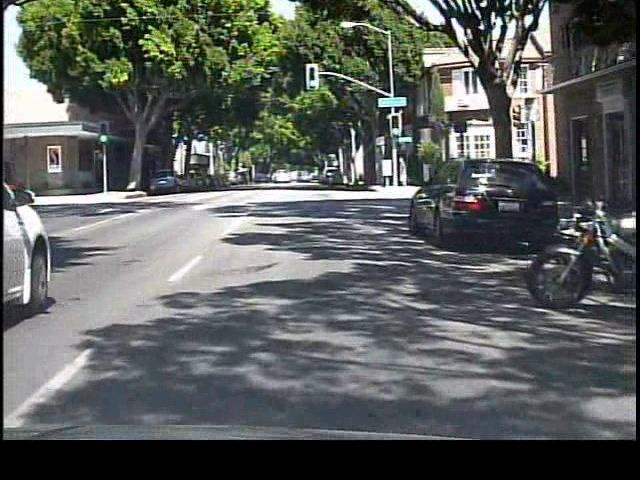person: (394, 156, 412, 193)
